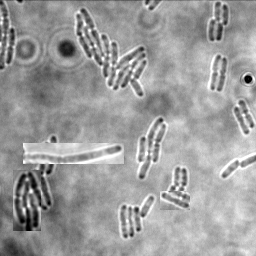Dividing: (23, 143, 124, 164), (238, 99, 255, 128), (209, 54, 222, 90), (217, 56, 228, 92), (7, 27, 17, 64), (175, 167, 189, 190)
Microcolony: (76, 7, 147, 98), (137, 117, 168, 180), (32, 135, 57, 211), (13, 170, 41, 231), (120, 195, 155, 238), (208, 1, 229, 42)
Rod: (160, 191, 190, 210), (233, 106, 251, 135), (222, 157, 240, 178), (174, 166, 183, 187)
